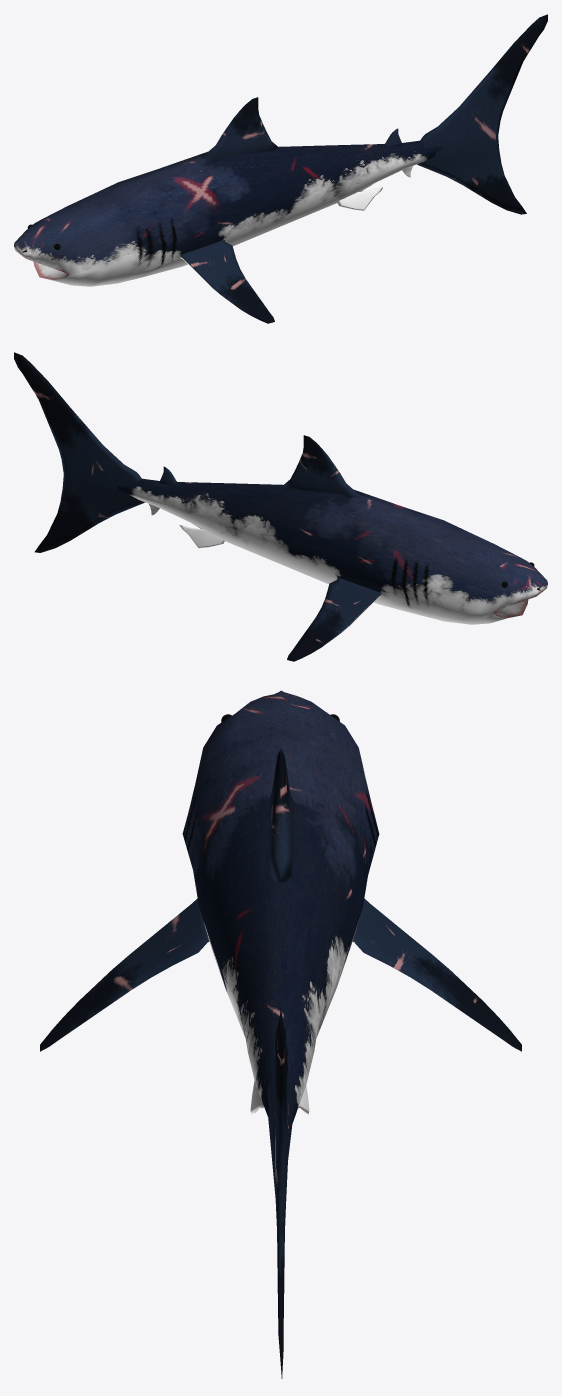
The model's file is SGW_Texture.glb.
3 renders of one model, top to bottom at view 1: azimuth 30°, elevation 25°; view 2: azimuth 150°, elevation 25°; view 3: azimuth 270°, elevation 25°, orthographic. The views are drawn at different scales.
Parts seen in each view (by area): view 1: pCylinder1, pCube4, pCube6, pCube1, pCube5; view 2: pCylinder1, pCube4, pCube7, pCube1, pasted__pCube5; view 3: pCylinder1, pCube6, pCube7, pCube4, pCube1.
Part boxes in pixels (x1,y1,x2,y2): pCylinder1: (14,140,442,286); pCube4: (417,14,547,214); pCube6: (180,240,274,323); pCube1: (201,97,277,158); pCube5: (337,187,382,210); pCylinder1: (117,478,547,624); pCube4: (14,352,144,552); pCube7: (287,578,381,661); pCube1: (284,435,360,497); pasted__pCube5: (179,525,224,548); pCylinder1: (182,690,379,1123); pCube6: (40,898,209,1051); pCube7: (352,898,521,1051); pCube4: (267,1007,294,1378); pCube1: (268,749,293,882).
Bounding box in the file's own units: 26.91 × 9.38 × 10.52.
3 materials, 3 textured.
